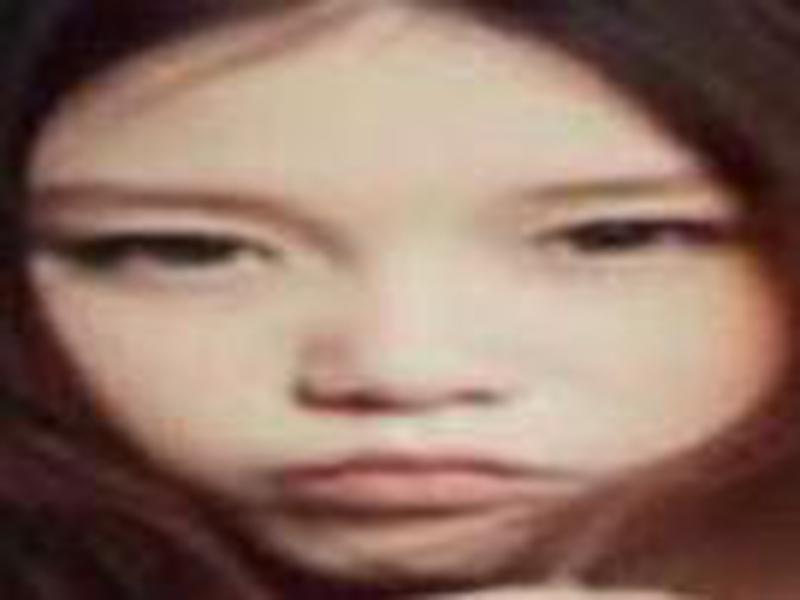without_mask: (27, 99, 774, 587)
